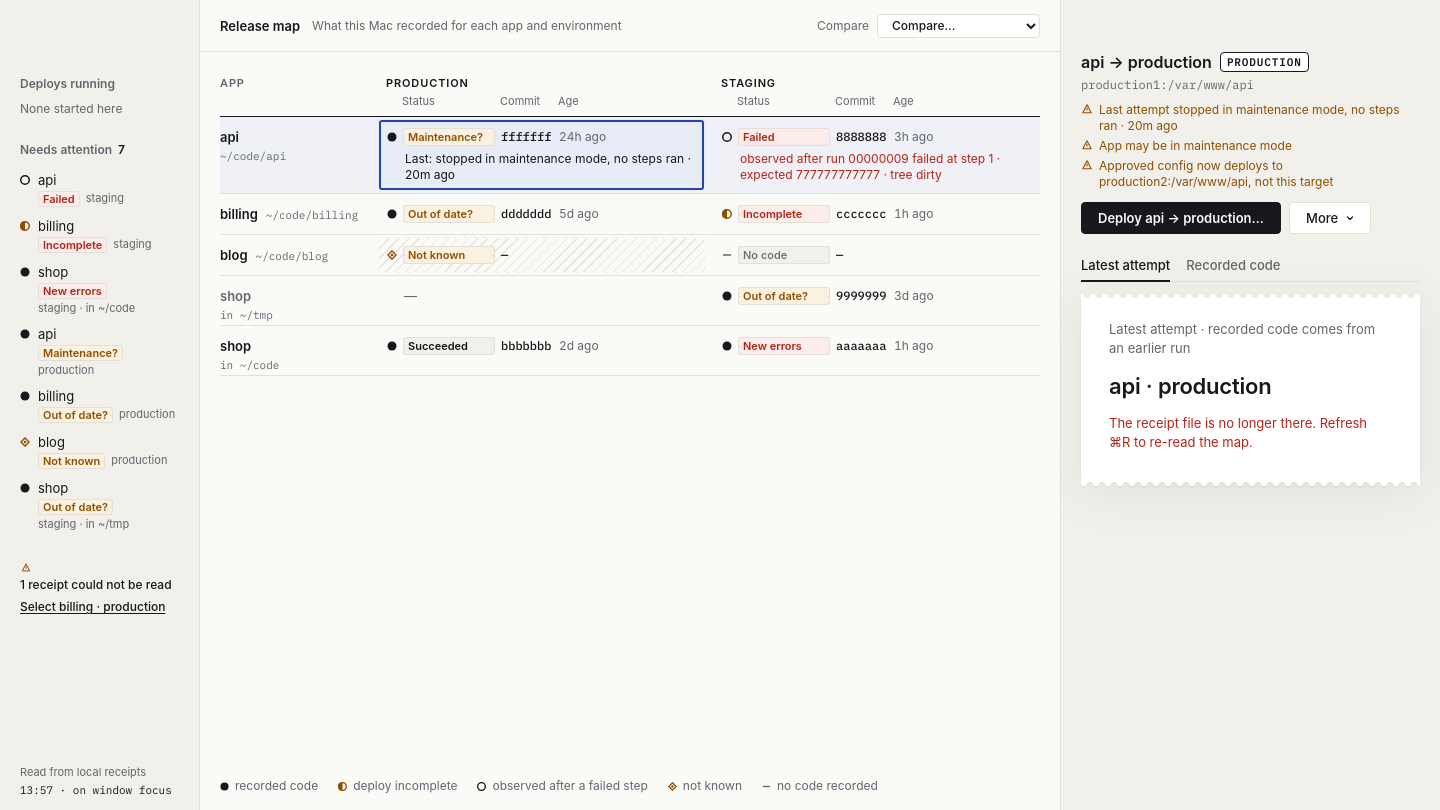
Test case: refusal: Shipslip doesn't know this server yet
Click the button "Deploy api → production…" at (1181, 218), box [1081, 202, 1281, 234]
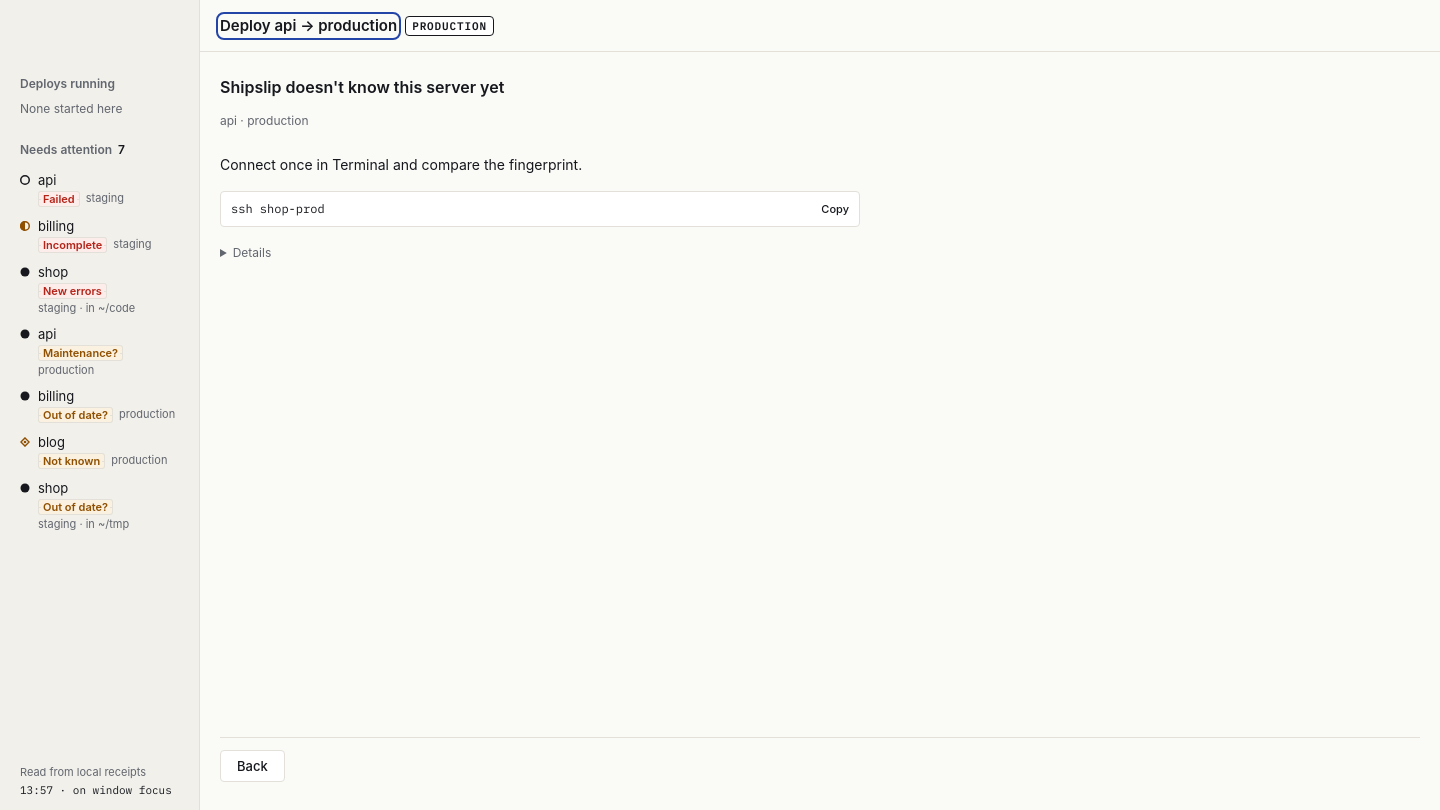
Now the heading "Shipslip doesn't know this server yet" is shown, box [220, 77, 504, 97]
Now the text "Connect once in Terminal and compare the fingerprint." is shown, box [220, 156, 582, 173]
Now the text "ssh shop-prod" is shown, box [231, 201, 325, 216]
